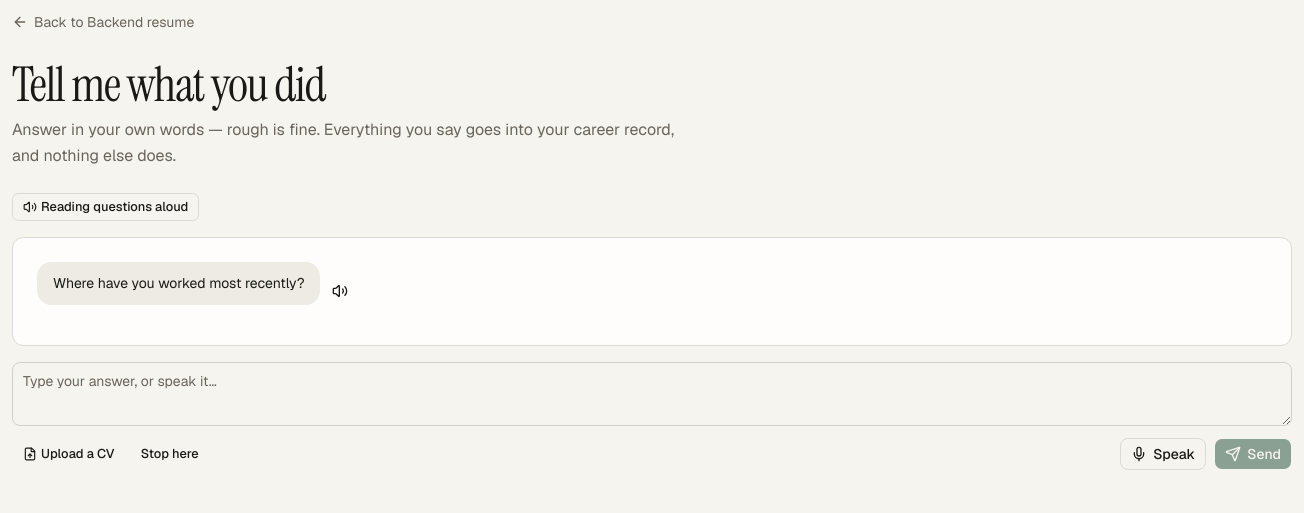
Test: answering by voice › adds to what is already typed instead of replacing it
Type "I fixed the import job" into the text box labelled "your answer".
click(652, 394); type("I fixed the import job")  # box [12,362,1292,426]
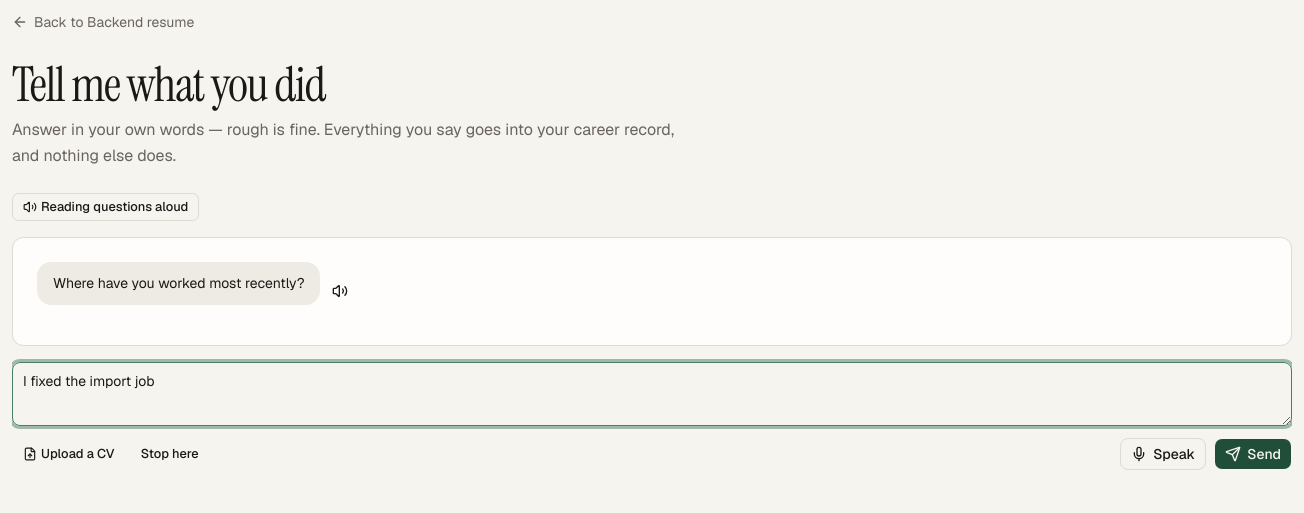
Click the button with aria-label "Answer by speaking".
click(1163, 454)  # box [1120,438,1206,470]
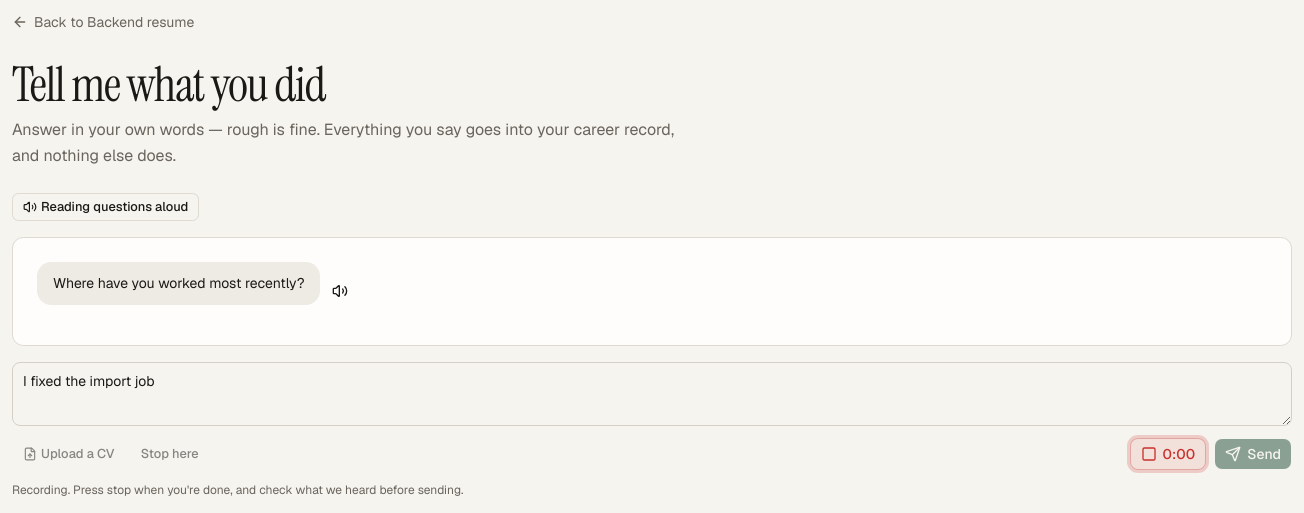
Click the button named "Stop recording".
click(1168, 454)  # box [1130,438,1206,470]
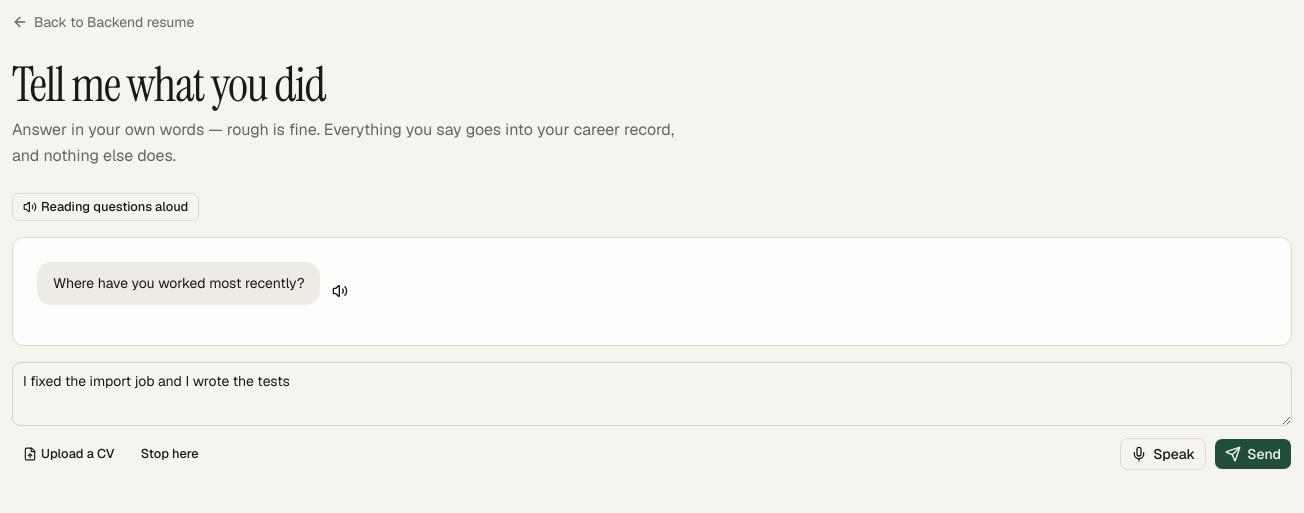
Result: the text box named "your answer" holds "I fixed the import job and I wrote the tests" at [12,362,1292,426]
